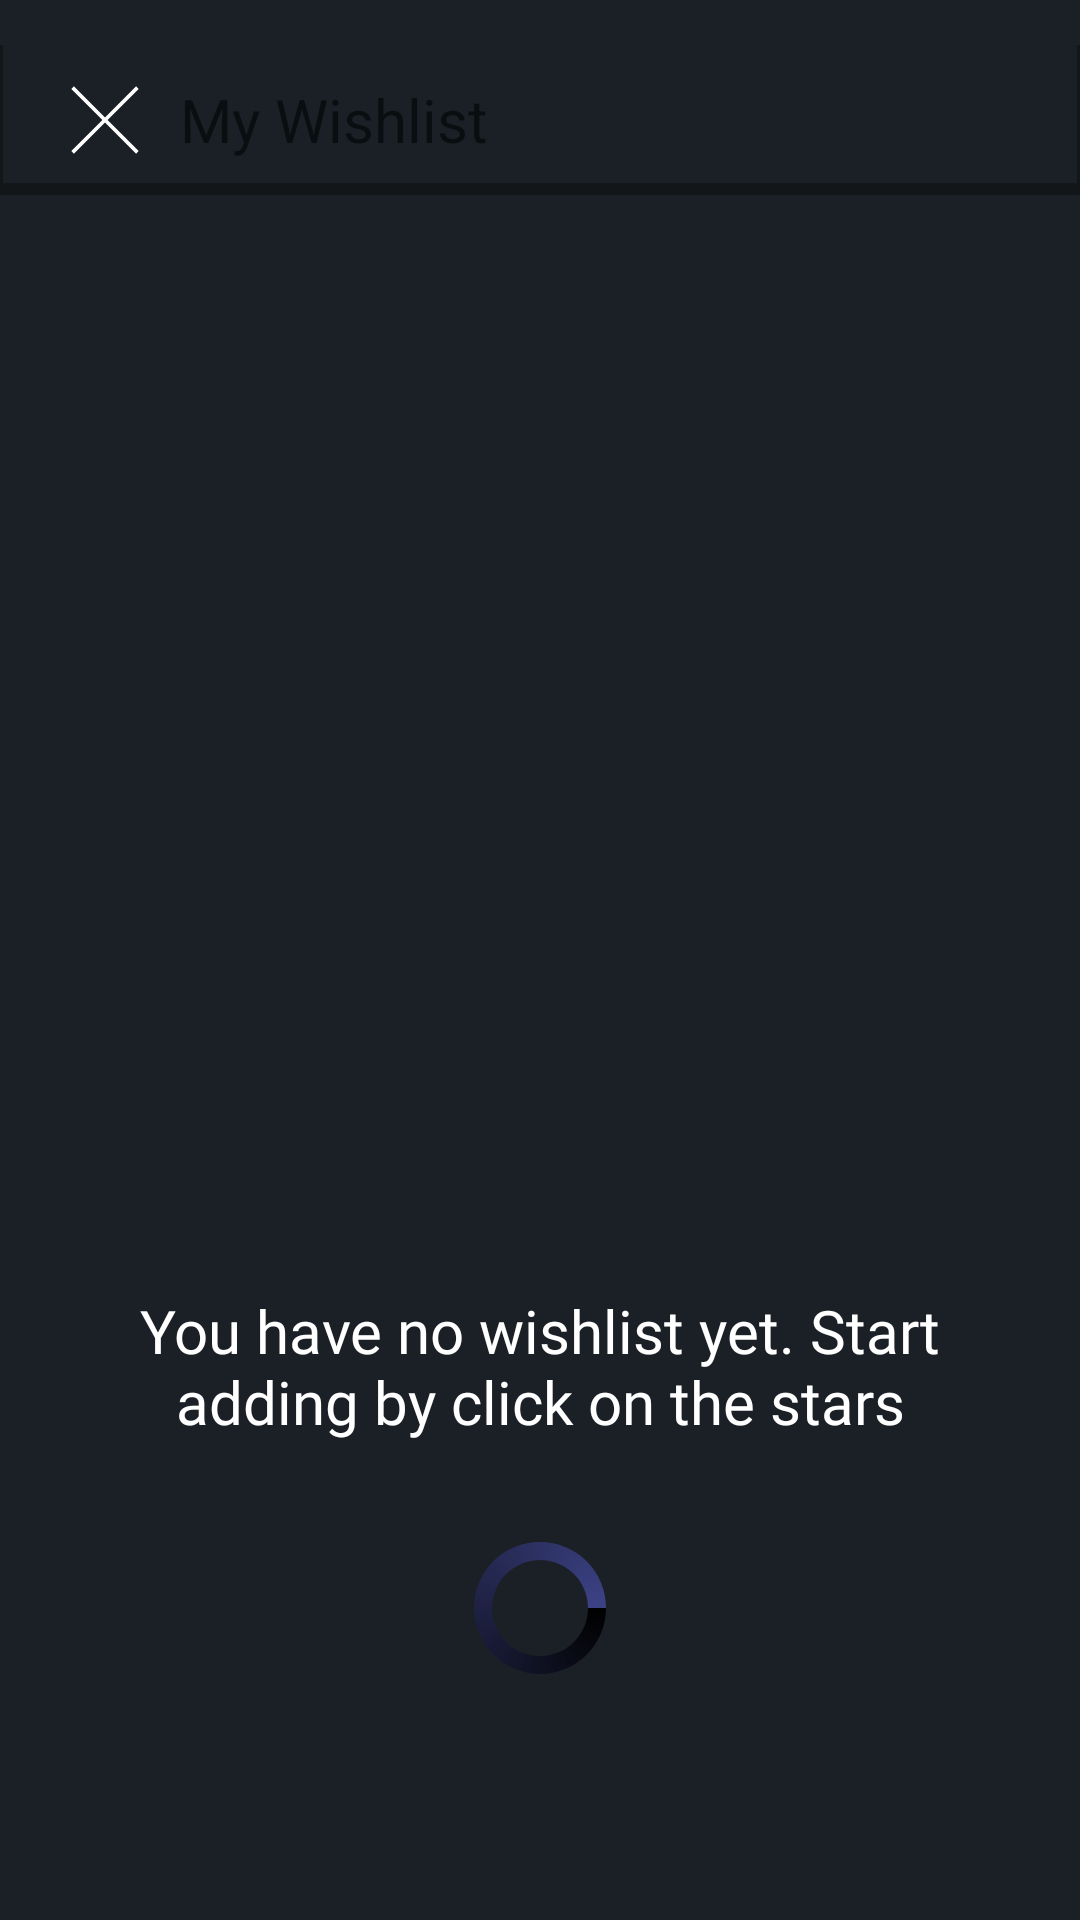

Icons on this 1080*1920 Android screen, each with the point to tap as [x,y]:
quit: [105,120]
